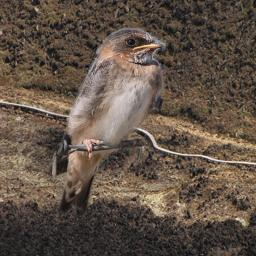Swallow: (45, 27, 166, 217)
